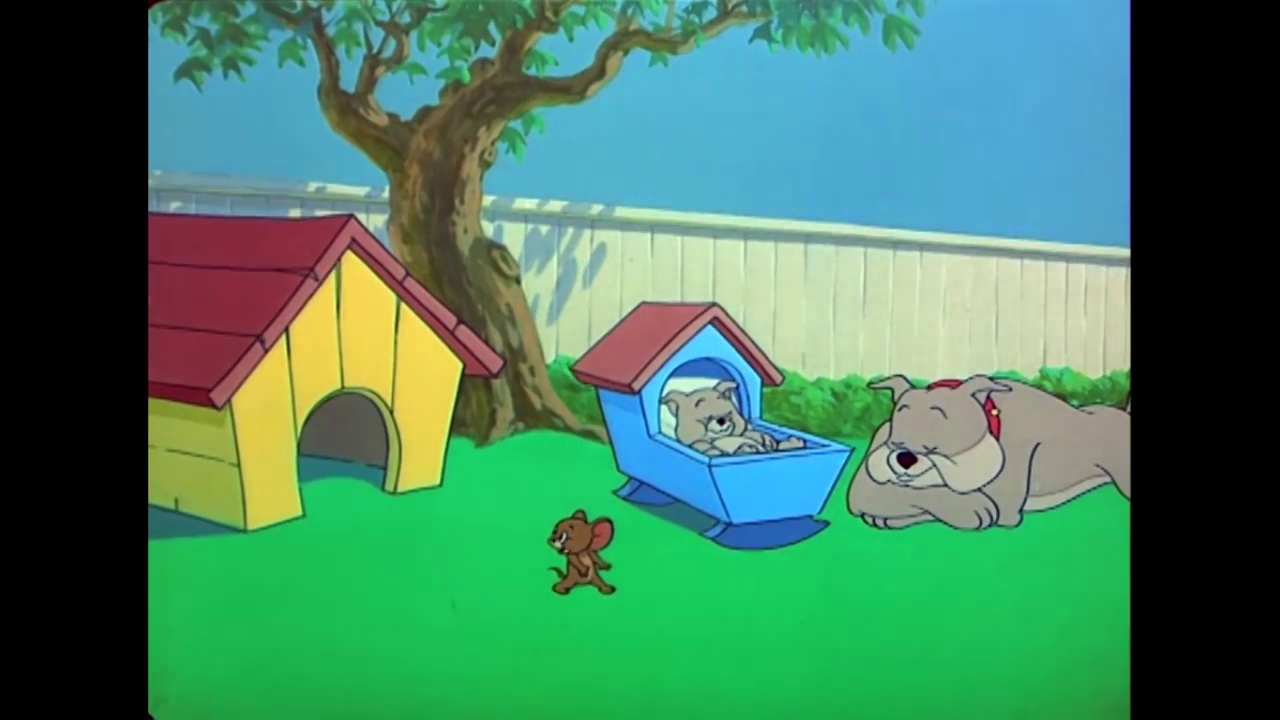spike: (859, 375, 1011, 495)
